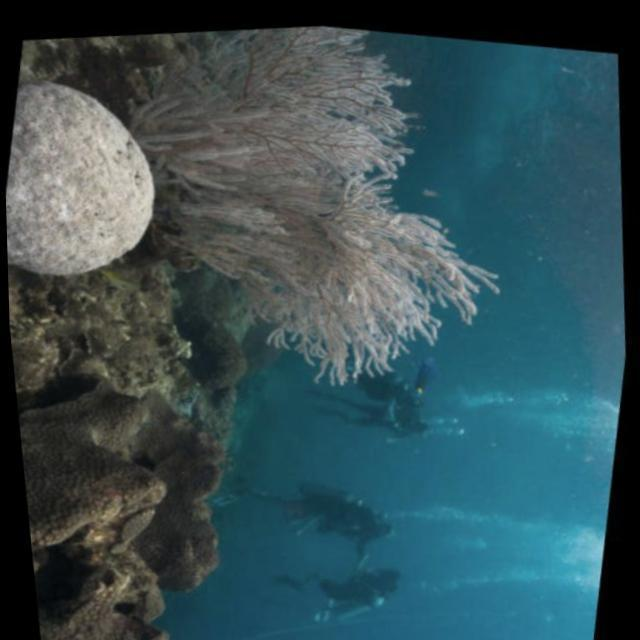Dead Coral: (9, 335, 252, 640)
